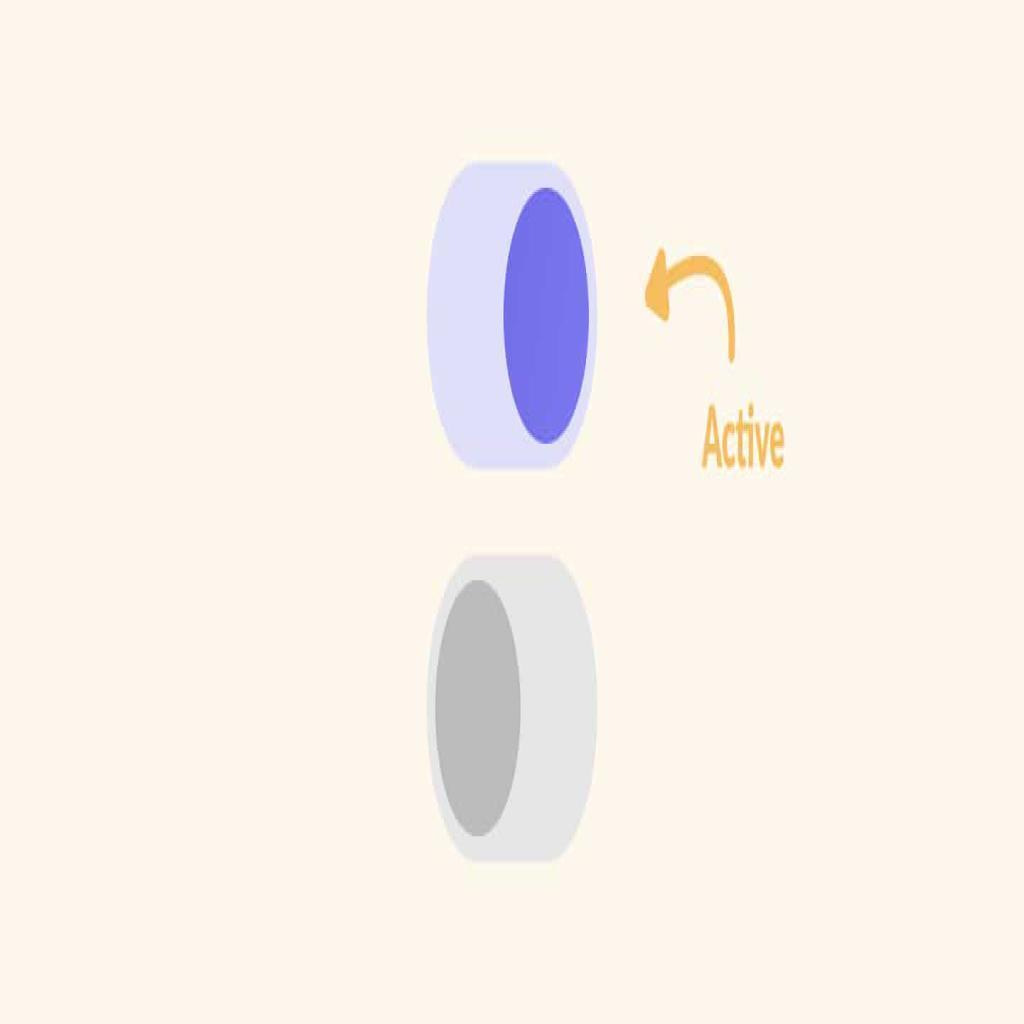switch: (425, 161, 604, 470), (427, 555, 602, 864)
